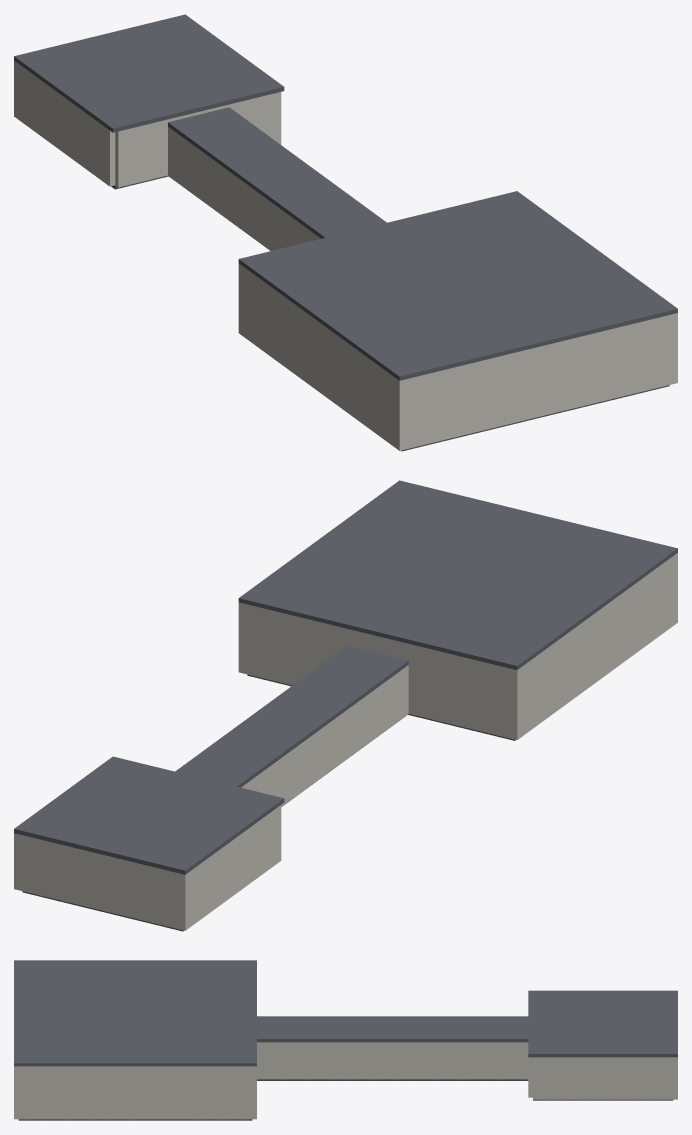
File: test_room.glb
3 renders of one model, top to bottom at view 1: azimuth 30°, elevation 25°; view 2: azimuth 150°, elevation 25°; view 3: azimuth 270°, elevation 25°, orthographic. The views are drawn at different scales.
Visible parts, largest first — view 1: SOLID_ceilA, wallA_0, SOLID_ceilB, wallA_1, SOLID_ceilC, wallC_0, wallB_1, wallB_3, wallB_4; view 2: SOLID_ceilA, SOLID_ceilB, wallA_1, SOLID_ceilC, wallB_0, wallA_3, wallC_0, wallA_4, wallB_1, wallA_5; view 3: SOLID_ceilA, wallA_2, wallC_1, SOLID_ceilB, SOLID_ceilC, wallB_2, FLOOR_corridor, FLOOR_roomA, FLOOR_roomB, wallA_0.
Part boxes in pixels (x1,y1,x2,y2): SOLID_ceilA: (238, 191, 677, 380); wallA_0: (396, 313, 677, 450); SOLID_ceilB: (14, 14, 284, 132); wallA_1: (238, 263, 396, 447); SOLID_ceilC: (168, 107, 386, 238); wallC_0: (168, 127, 320, 250); wallB_1: (17, 63, 115, 186); wallB_3: (115, 118, 171, 187); wallB_4: (225, 92, 278, 143); SOLID_ceilA: (238, 480, 677, 669); SOLID_ceilB: (14, 756, 284, 874); wallA_1: (512, 555, 674, 739); SOLID_ceilC: (175, 645, 408, 787); wallB_0: (14, 833, 188, 930); wallA_3: (404, 643, 511, 738); wallC_0: (241, 665, 408, 806); wallA_4: (244, 603, 351, 685); wallB_1: (188, 805, 281, 928); wallA_5: (351, 630, 404, 659); SOLID_ceilA: (14, 960, 256, 1066); wallA_2: (18, 1066, 256, 1119); wallC_1: (257, 1042, 528, 1079); SOLID_ceilB: (528, 990, 677, 1057); SOLID_ceilC: (257, 1016, 528, 1042); wallB_2: (533, 1057, 673, 1099); FLOOR_corridor: (257, 1079, 528, 1080); FLOOR_roomA: (18, 1119, 252, 1120); FLOOR_roomB: (533, 1099, 673, 1100); wallA_0: (14, 1066, 18, 1119).
Bounding box in the file's own units: 20.8 × 5.6 × 56.8.
6 materials, 1 textured.
